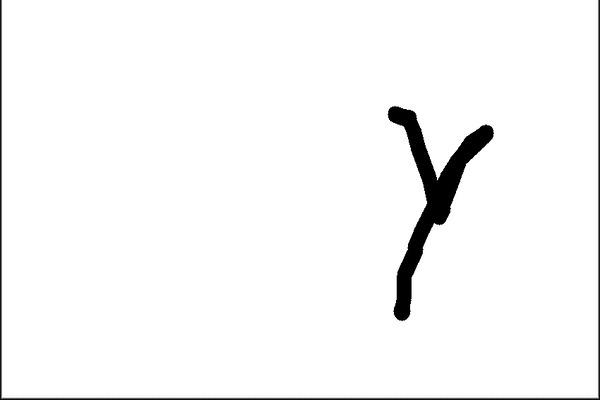Y: (370, 99, 505, 336)
